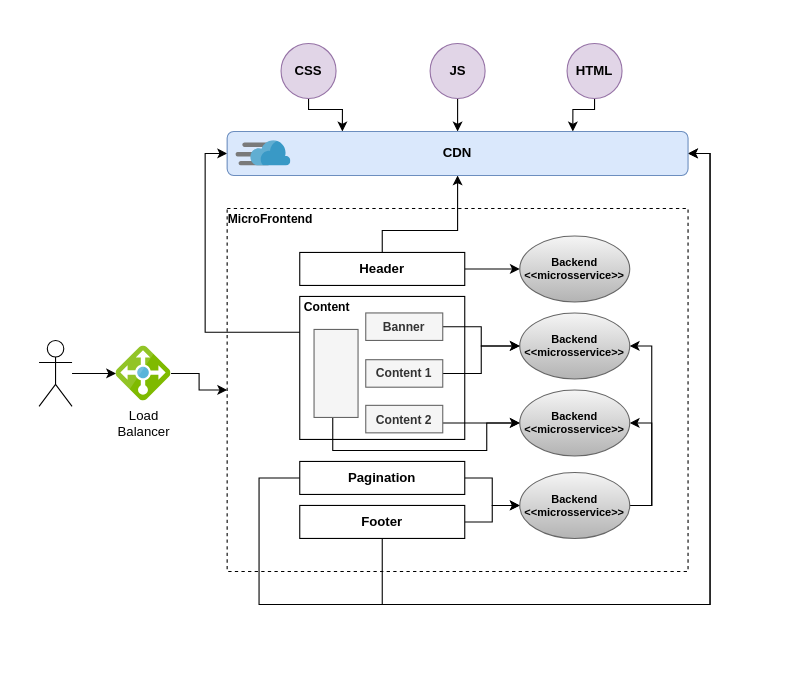
This 807x686 diagram has some shape labels left out. The centre of each missing label's shape, as x and y in pixels:
Menu: point 335,372
User: point 55,372
